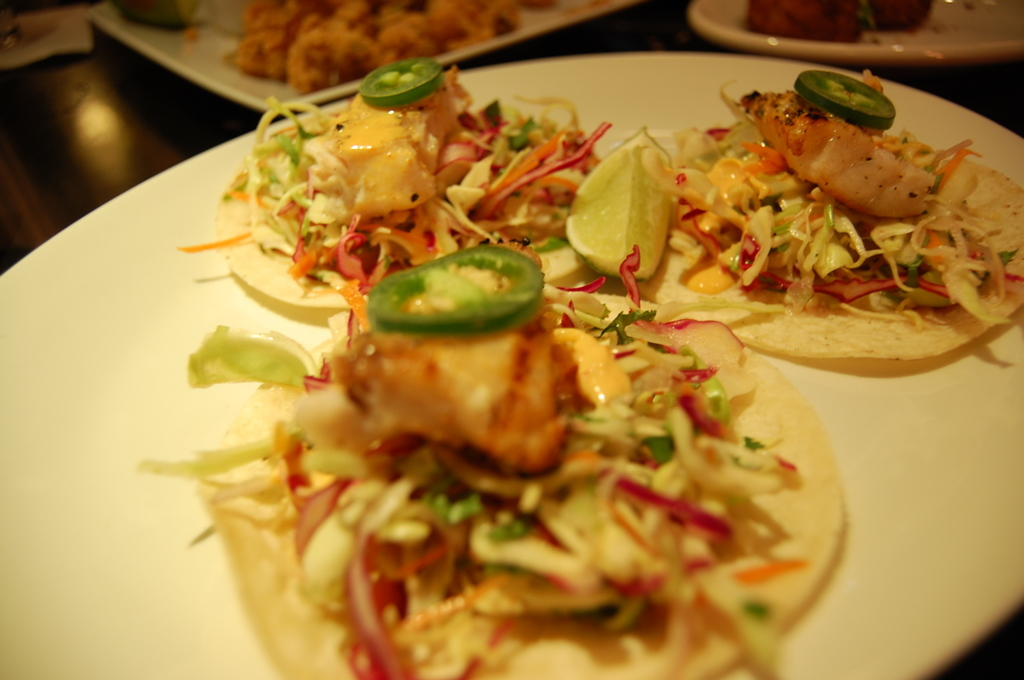taco: (202, 289, 849, 679), (598, 119, 1023, 368), (216, 74, 615, 310)
